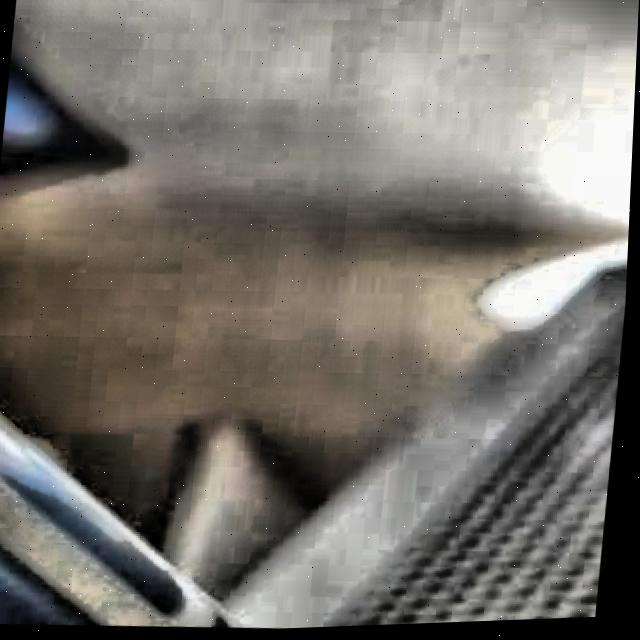metal: (0, 122, 635, 640)
